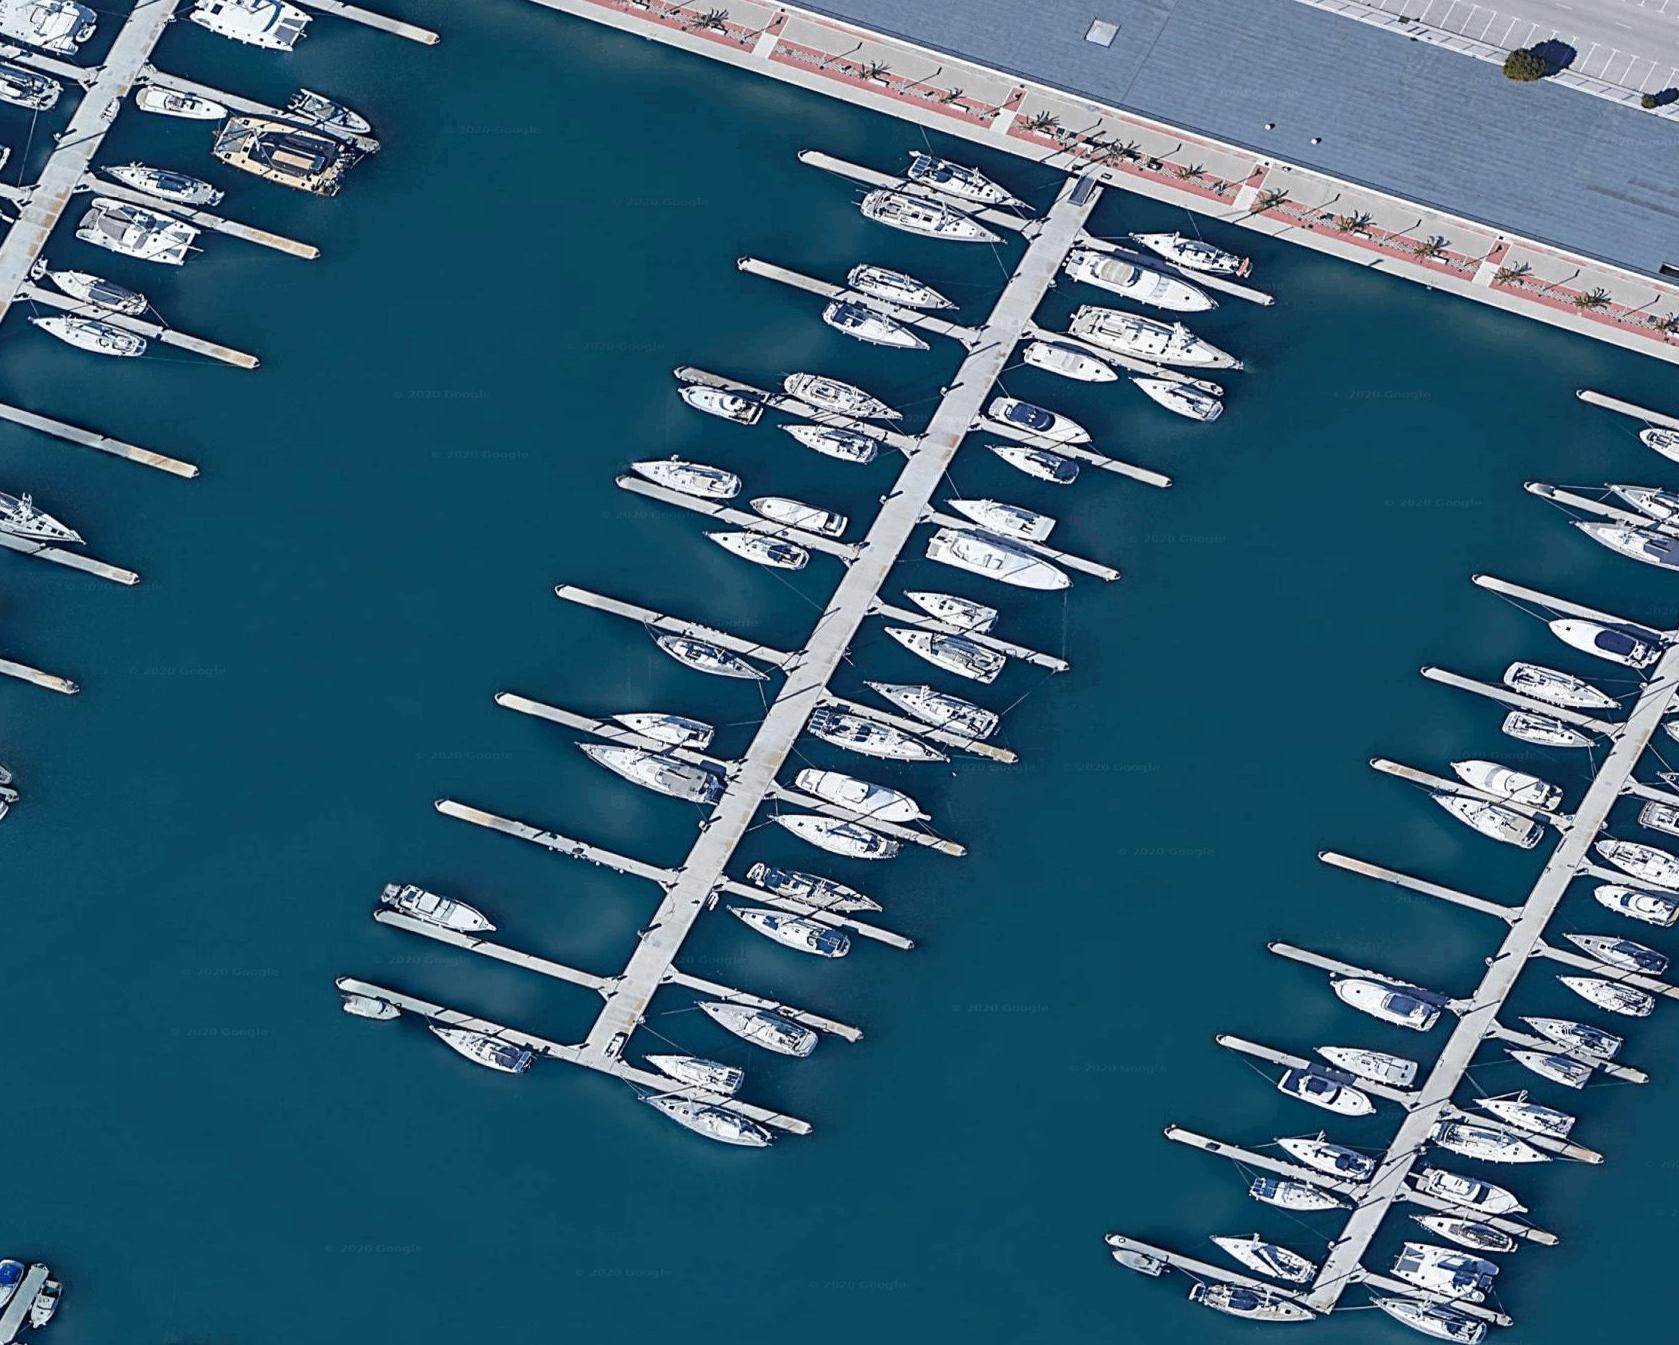harbor: (361, 122, 1223, 1154), (1266, 358, 1679, 1345), (1, 1, 351, 913), (10, 386, 199, 484), (1317, 843, 1522, 932)
ship: (781, 753, 957, 850), (1377, 758, 1549, 855), (62, 189, 200, 273), (630, 1081, 783, 1157), (1352, 1276, 1505, 1345), (721, 891, 857, 968), (857, 181, 1008, 250), (879, 612, 1015, 688), (1318, 963, 1446, 1043), (16, 296, 151, 365), (778, 365, 910, 434), (1490, 659, 1636, 719), (1113, 222, 1260, 283), (1441, 751, 1571, 818), (382, 876, 501, 946), (843, 258, 962, 327), (817, 292, 938, 360), (1303, 1036, 1431, 1099), (89, 156, 224, 215), (177, 1, 309, 60), (1554, 922, 1675, 981), (1126, 360, 1227, 430), (702, 517, 820, 576), (1413, 1162, 1529, 1221), (621, 452, 741, 506), (1550, 966, 1658, 1027), (1409, 1202, 1527, 1257), (777, 412, 887, 467), (1586, 829, 1679, 893), (1281, 1066, 1380, 1127), (1275, 1130, 1380, 1184), (747, 490, 855, 541), (1584, 872, 1674, 931), (670, 371, 765, 424), (1247, 1169, 1347, 1219), (1496, 705, 1593, 751)
